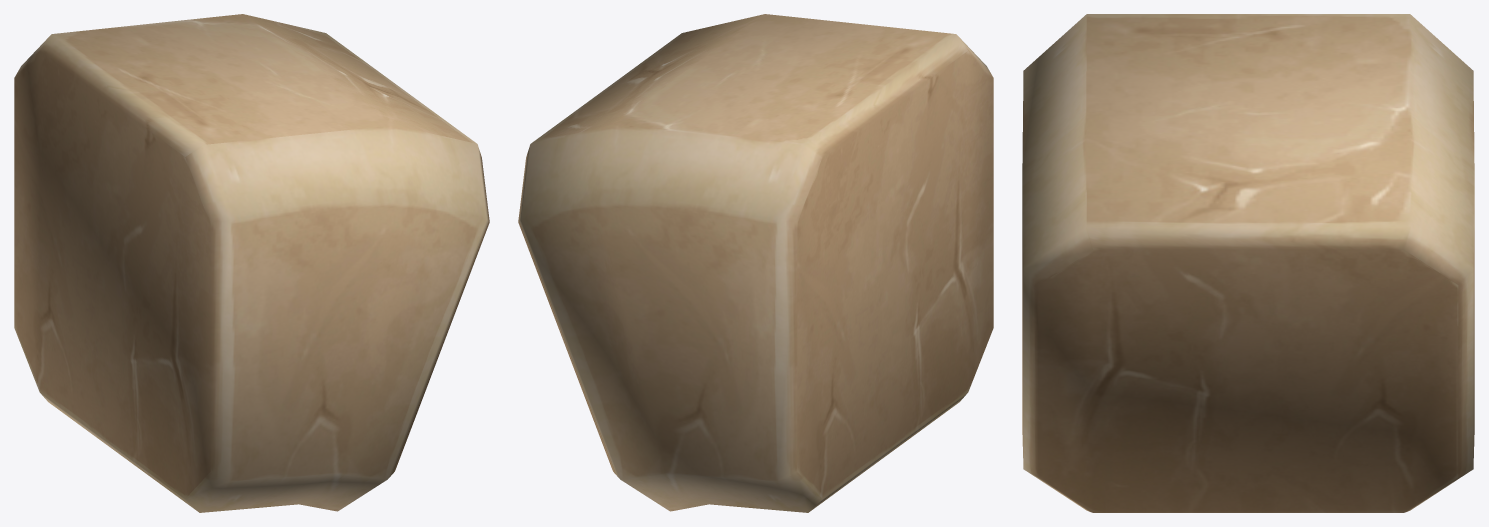
The model's file is DE_House_Mod_Part_61.fbx.
3 views of the same model, side by side, from view 1: azimuth 30°, elevation 25°; view 2: azimuth 150°, elevation 25°; view 3: azimuth 270°, elevation 25° (orthographic). The views are drawn at different scales.
Parts seen in each view (by area): view 1: DE_House_Mod_Part_61; view 2: DE_House_Mod_Part_61; view 3: DE_House_Mod_Part_61.
Boxes of the visible parts, left/top/right/bottom form: DE_House_Mod_Part_61: left=14, top=14, right=489, bottom=512; DE_House_Mod_Part_61: left=518, top=14, right=993, bottom=512; DE_House_Mod_Part_61: left=1022, top=14, right=1474, bottom=512.
Bounding box in the file's own units: 0.5169 × 0.6653 × 0.6397.
